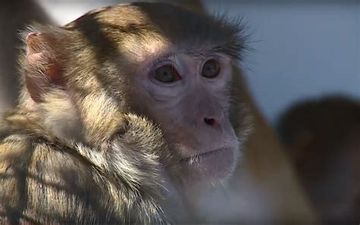monkey: (21, 0, 306, 225)
